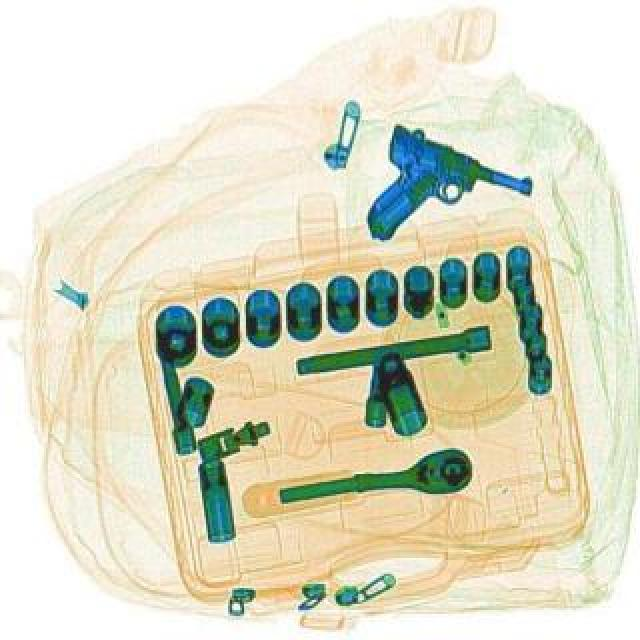gun: (352, 120, 540, 280)
